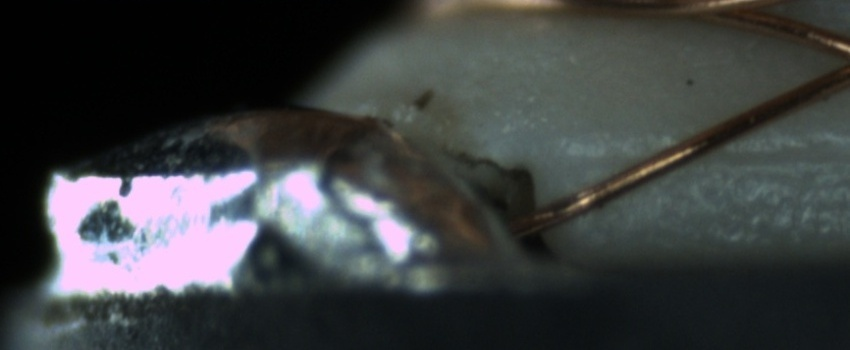CL: (808, 25, 850, 93)
DL: (573, 123, 847, 187)
